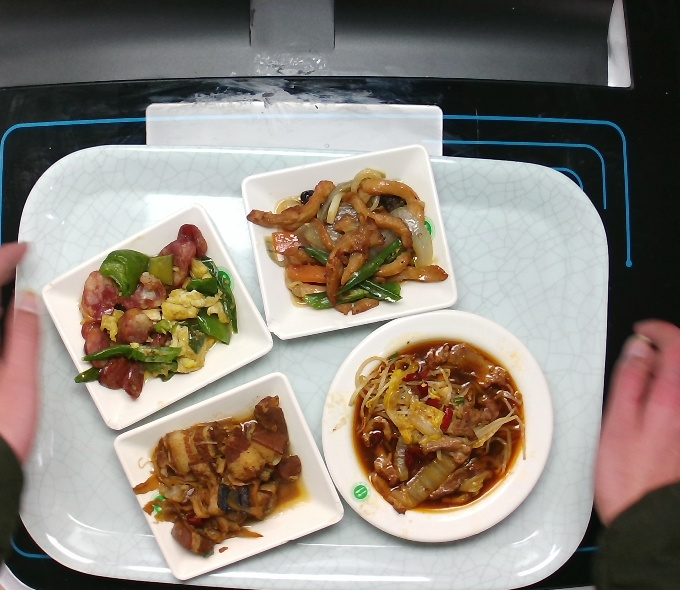wcq-HongShaoRou: (132, 394, 304, 559)
wcq-QingJiaoJiDanChaoDaChang: (72, 219, 239, 403)
wcq-QingJiaoRouSi: (246, 167, 449, 312)
wcq-ShuiZhuRouPian: (351, 335, 526, 512)
